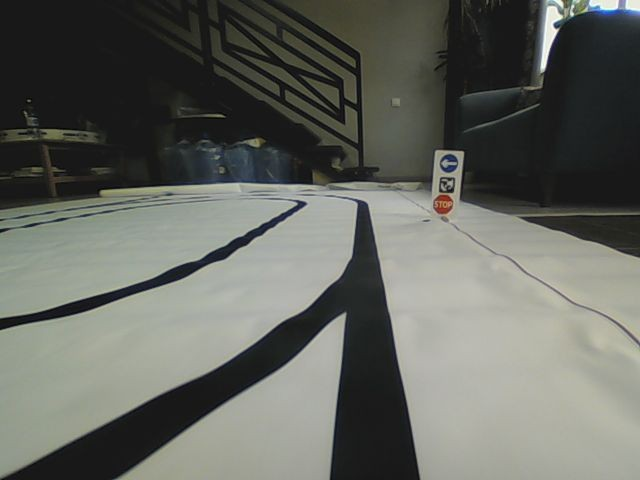Stop: (432, 194, 455, 215)
